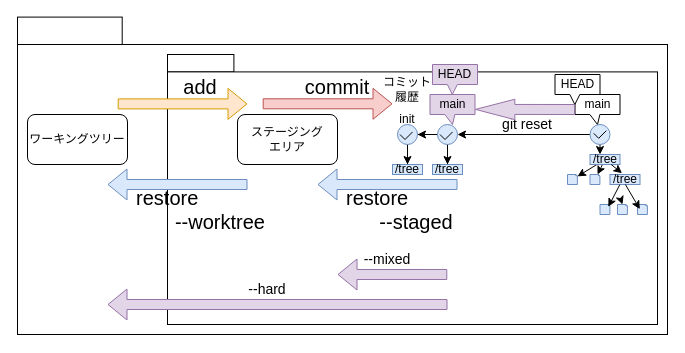
This 685x353 diagram has some shape labels left out. Each missing label, with the centre of its shape:
".git" belongs at [200,63].
"ディレクトリ" belongs at [69,30].
